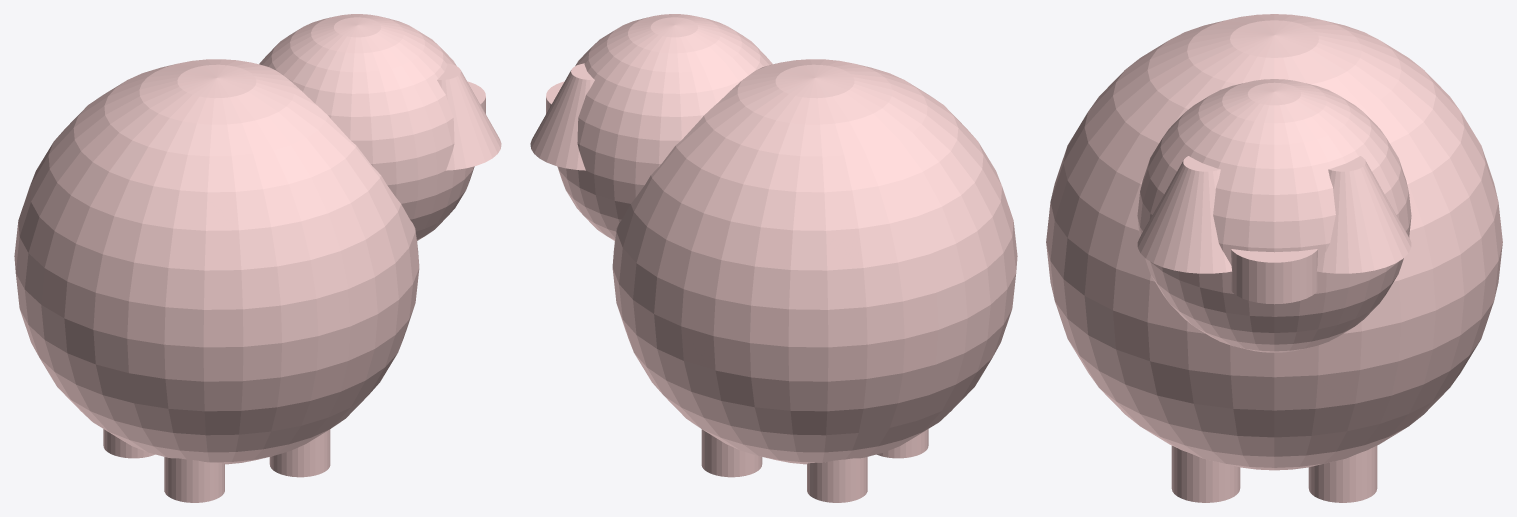
The model's file is pig_model.glb.
3 views of the same model, side by side, from view 1: azimuth 30°, elevation 25°; view 2: azimuth 150°, elevation 25°; view 3: azimuth 270°, elevation 25° (orthographic). The views are drawn at different scales.
Parts seen in each view (by area): view 1: Pig_Body, Pig_Head, Pig_Ear_Right, Pig_Leg_4, Pig_Leg_3, Pig_Leg_2; view 2: Pig_Body, Pig_Head, Pig_Ear_Left, Pig_Leg_2, Pig_Leg_1, Pig_Leg_4; view 3: Pig_Body, Pig_Head, Pig_Ear_Left, Pig_Ear_Right, Pig_Nose, Pig_Leg_1, Pig_Leg_3.
Boxes of the visible parts, x1,y1,x2,y2 form: Pig_Body: (14, 59, 419, 464); Pig_Head: (259, 14, 474, 240); Pig_Ear_Right: (437, 63, 501, 170); Pig_Leg_4: (164, 457, 224, 502); Pig_Leg_3: (269, 429, 330, 477); Pig_Leg_2: (103, 429, 154, 458); Pig_Body: (612, 59, 1017, 464); Pig_Head: (557, 14, 772, 240); Pig_Ear_Left: (530, 63, 594, 170); Pig_Leg_2: (807, 457, 867, 502); Pig_Leg_1: (701, 429, 762, 477); Pig_Leg_4: (877, 429, 928, 458); Pig_Body: (1046, 14, 1502, 470); Pig_Head: (1137, 79, 1411, 352); Pig_Ear_Left: (1317, 156, 1411, 273); Pig_Ear_Right: (1137, 156, 1231, 273); Pig_Nose: (1231, 249, 1317, 304); Pig_Leg_1: (1308, 446, 1377, 502); Pig_Leg_3: (1171, 446, 1240, 502).
Size of the model in its own units: 2.5 by 2.15 by 2.
